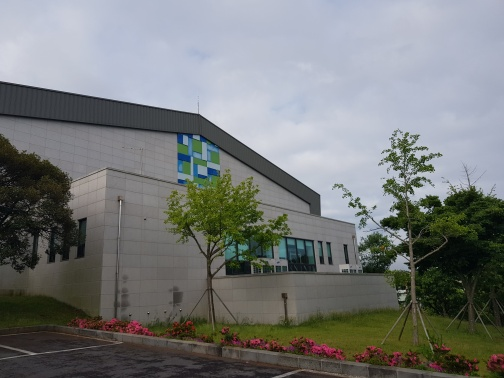Gym: (2, 76, 401, 317), (177, 126, 221, 190)
